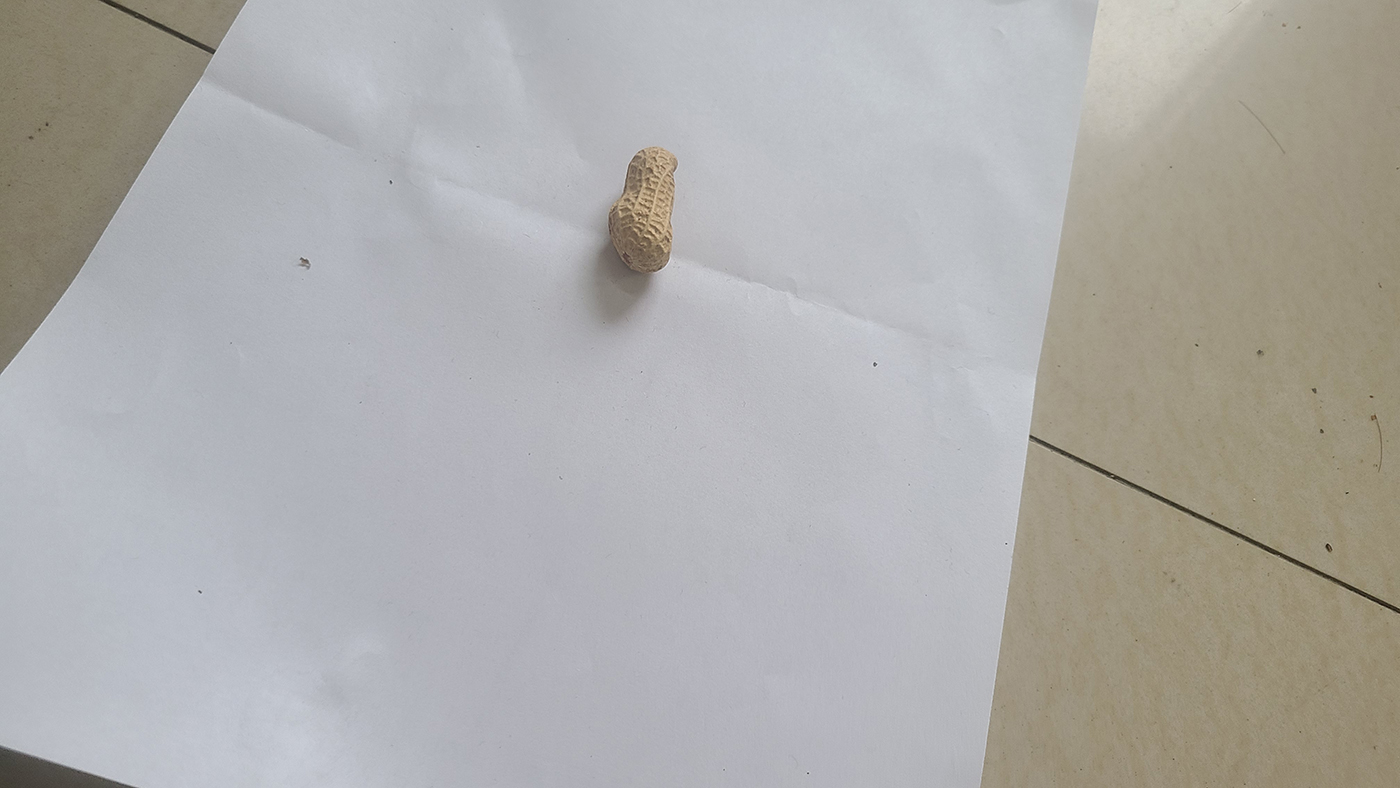h: (609, 145, 679, 274)
